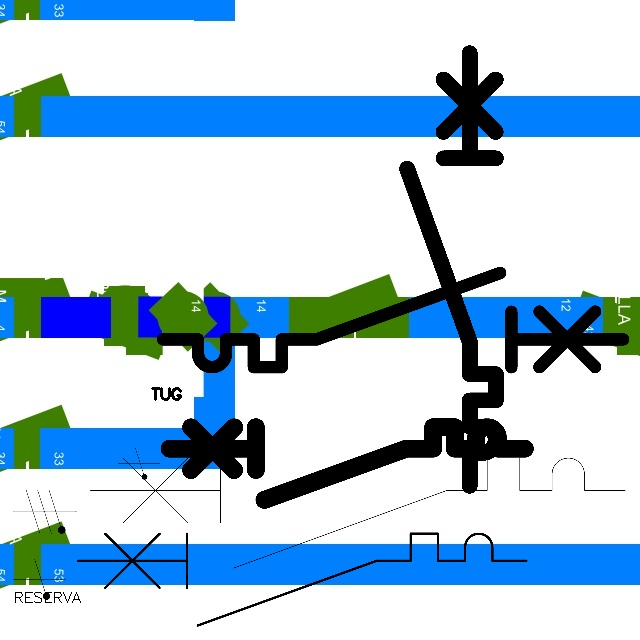interruptor_termomagnetico: (76, 444, 639, 581), (151, 261, 635, 379), (66, 522, 537, 637), (396, 42, 507, 497), (160, 418, 534, 509)
